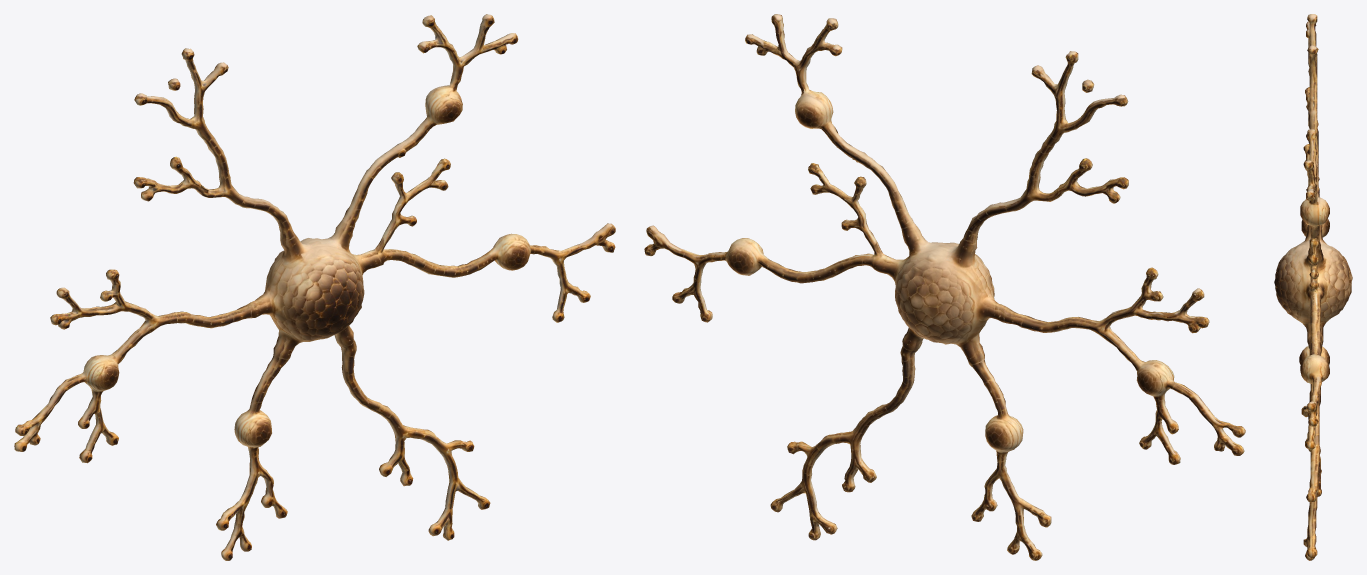
The model's file is neuron.glb.
The picture shows the model from 3 angles, left to right: view 1: azimuth 30°, elevation 25°; view 2: azimuth 150°, elevation 25°; view 3: azimuth 270°, elevation 25°; orthographic projection. The views are drawn at different scales.
Size of the model in its own units: 1.91 by 1.68 by 0.2701.
Materials: 1 (1 with a texture image).
